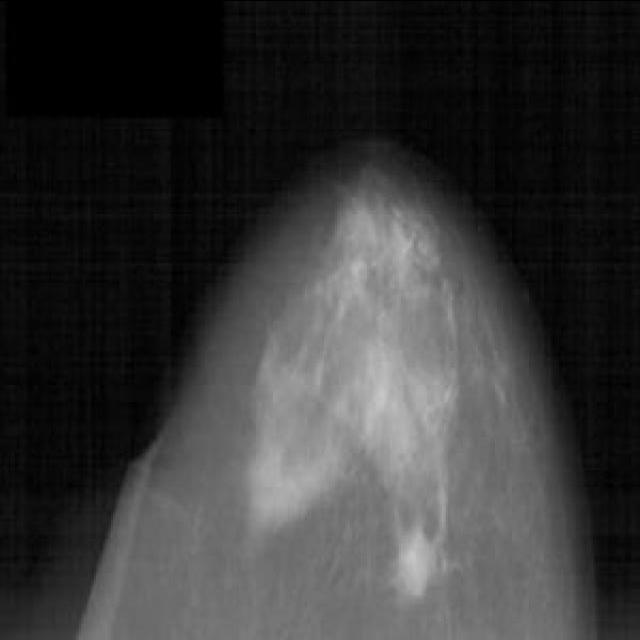tumor: (233, 197, 457, 511), (374, 524, 458, 600)
